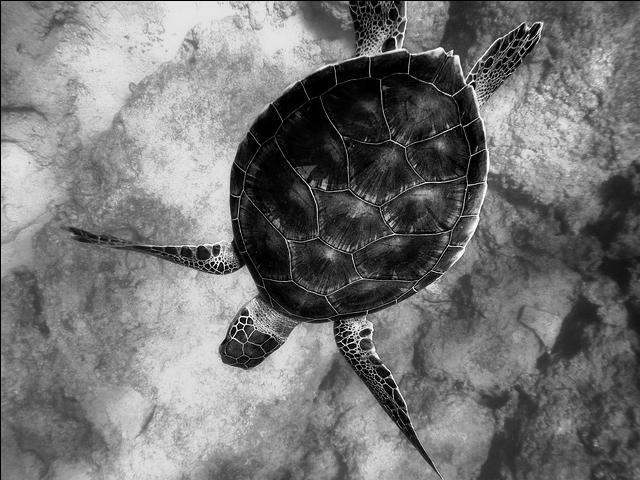Non_Gorille: (54, 19, 572, 471)
